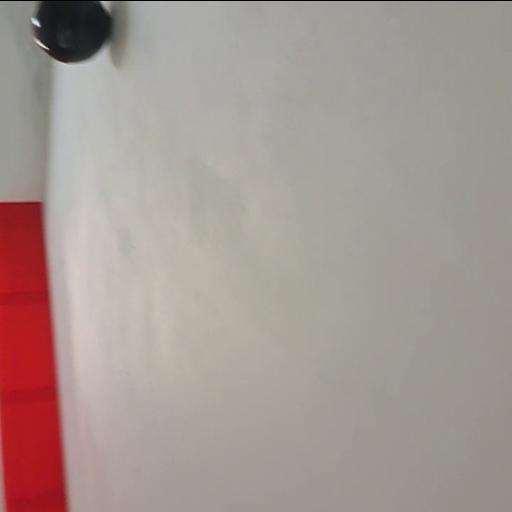dead: (28, 0, 111, 66)
